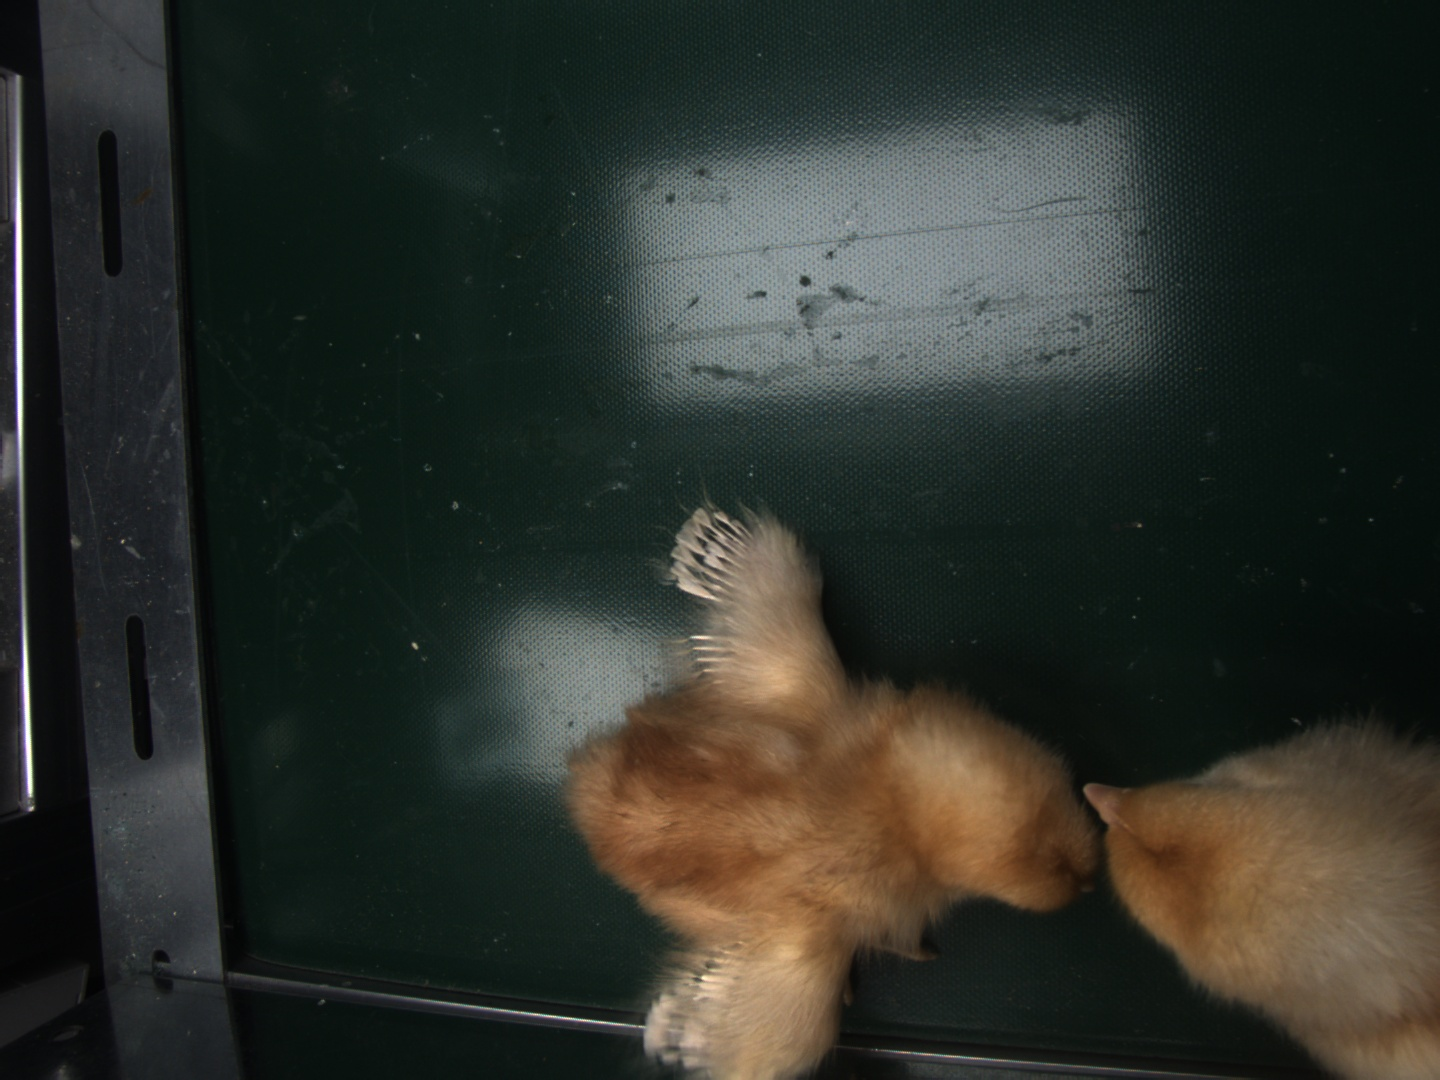female: (674, 506, 757, 607)
